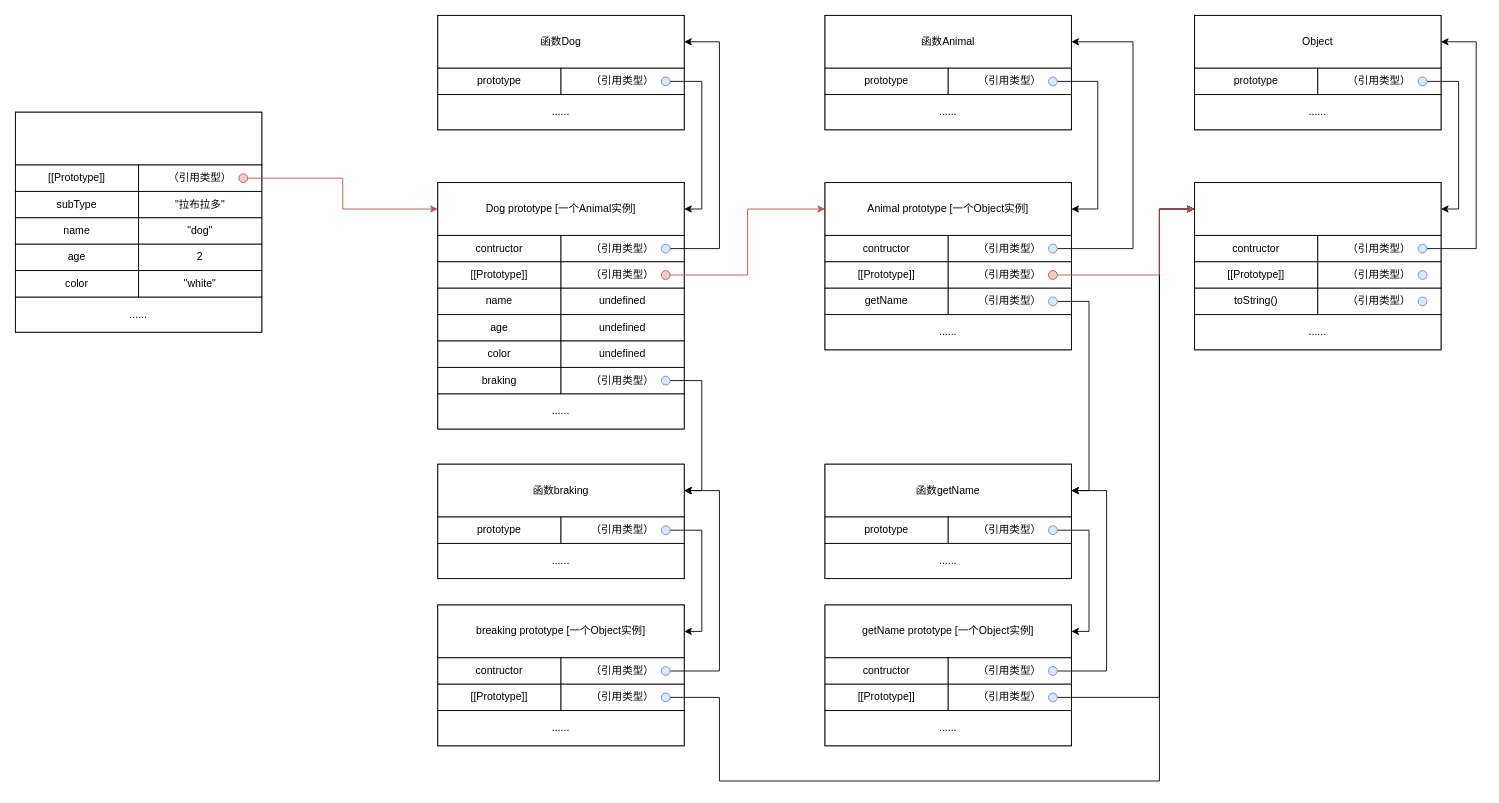
The diagram is 1499 pixels wide and 803 high, and some of its shapes have lost their labels. The box of each missing label's shape, as (x1, y1, x2, y2) in pixels:
dog [一个Dog实例]: (15, 111, 262, 165)
Object prototype: (1194, 182, 1441, 235)
